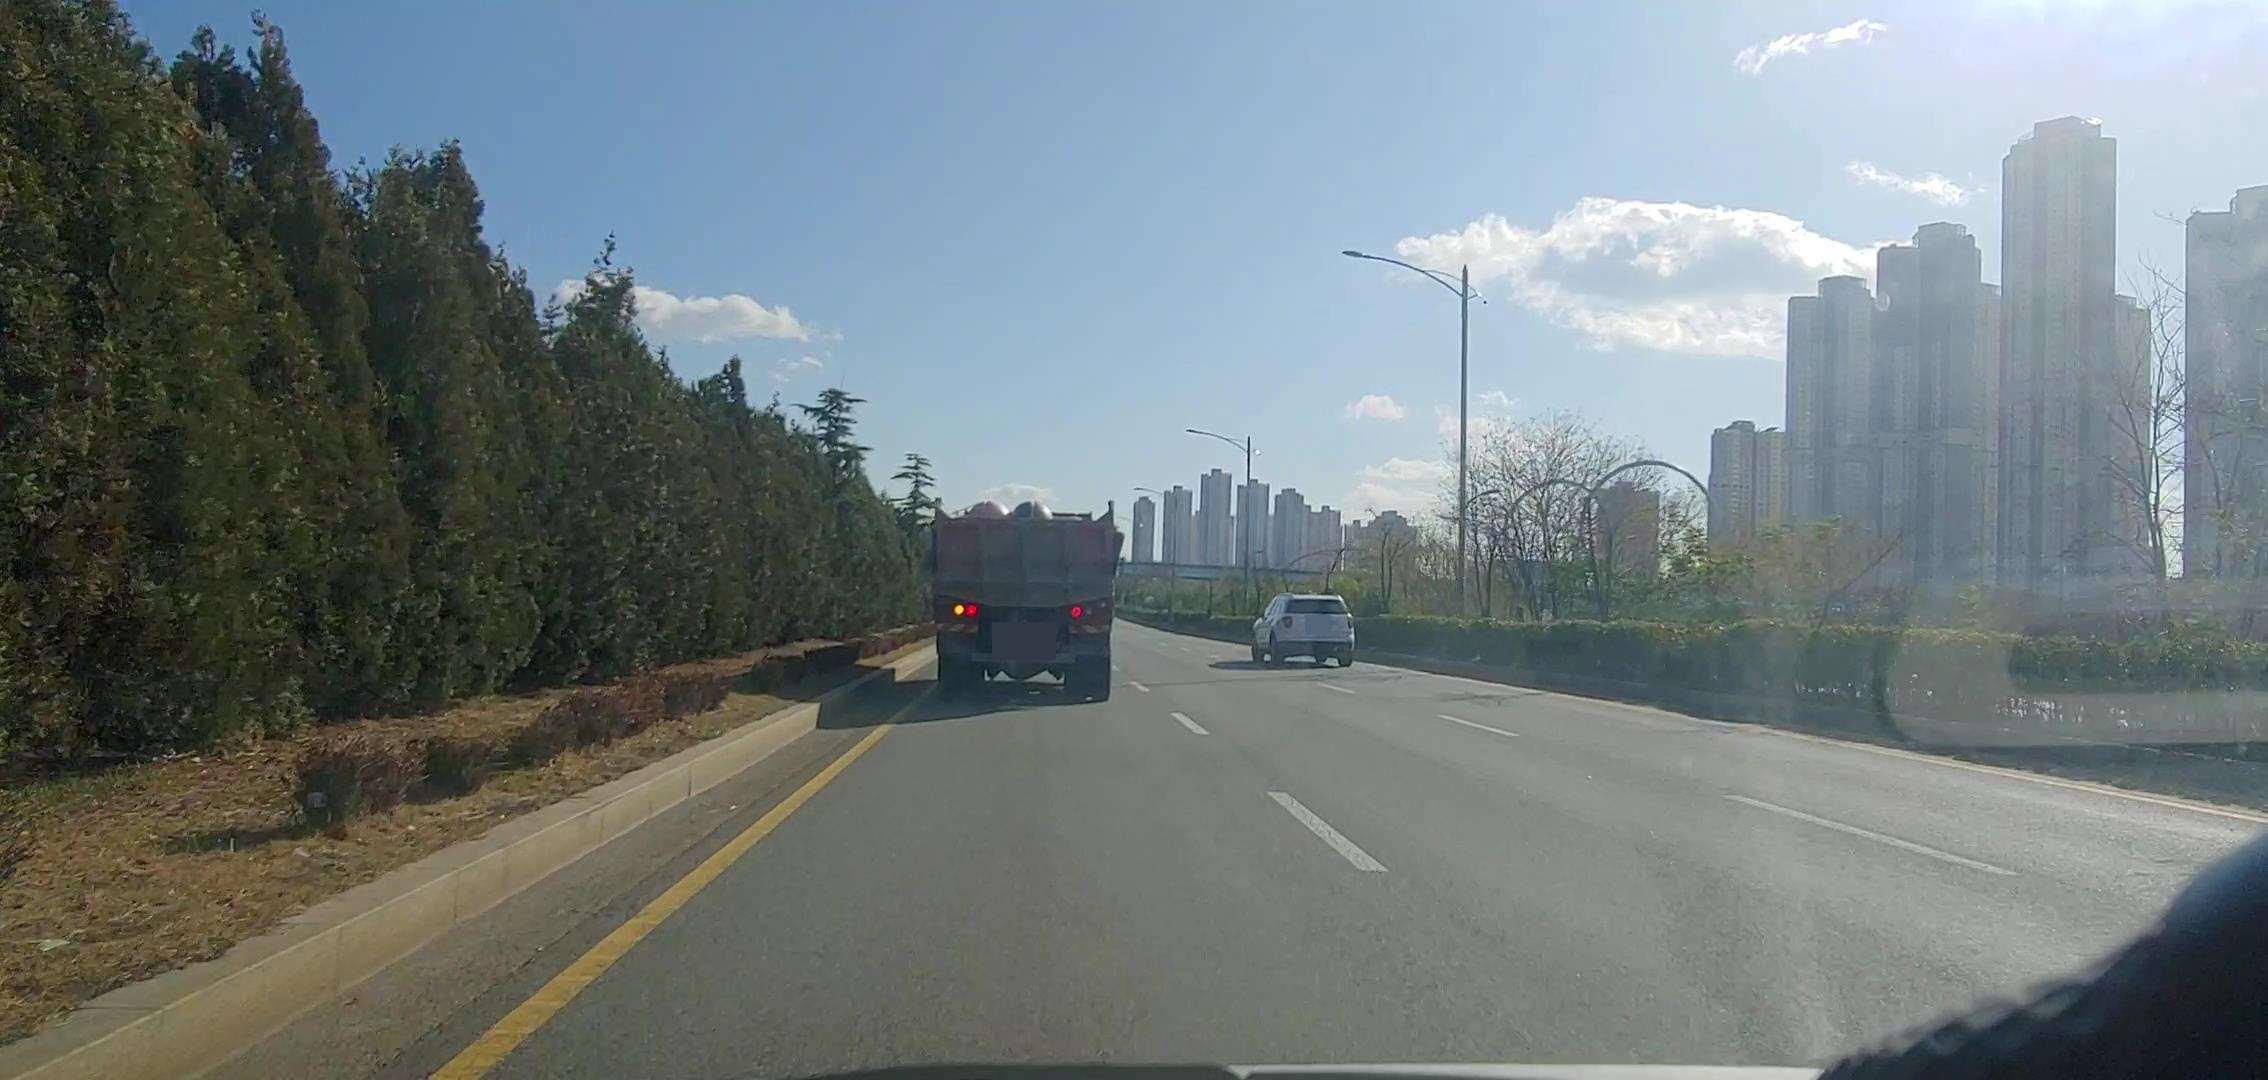불법차량: (922, 496, 1124, 702)
